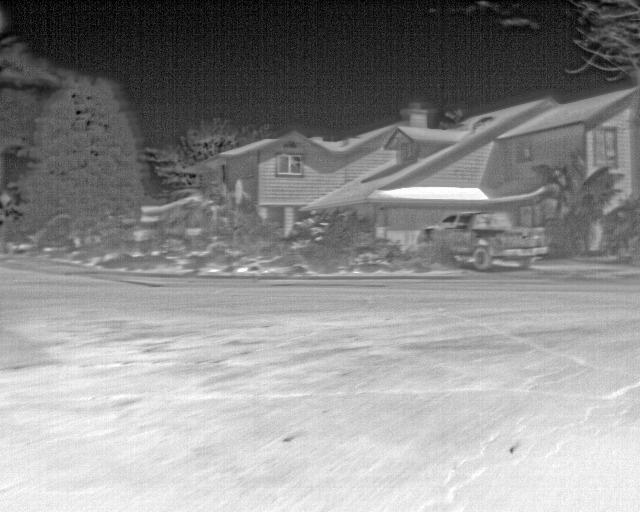car: (417, 209, 550, 268)
